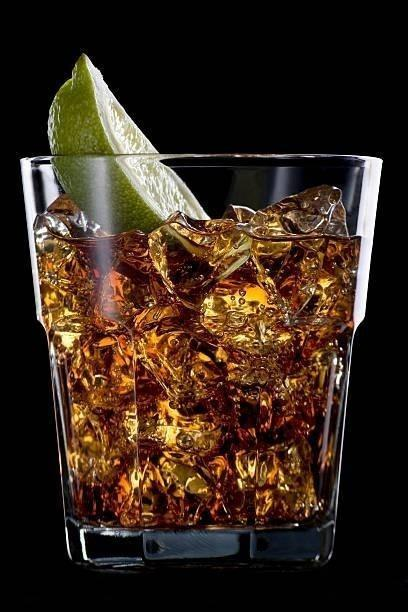glass-normal: (18, 146, 386, 577)
